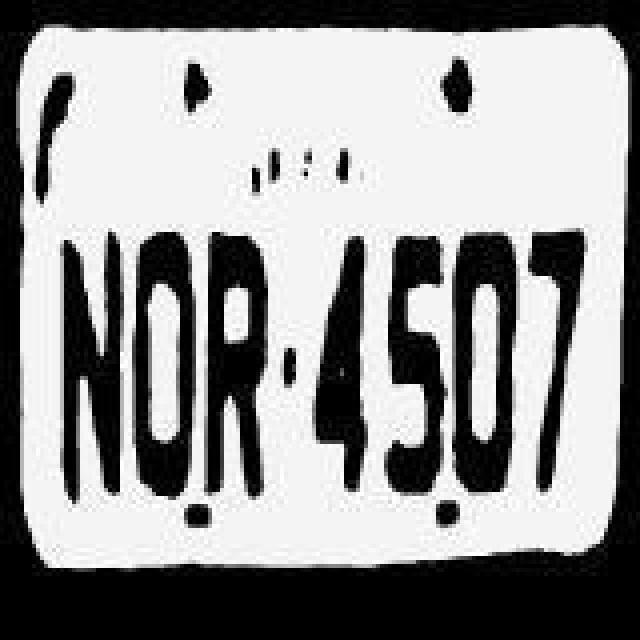4: (310, 226, 378, 494)
5: (382, 224, 450, 504)
7: (524, 220, 596, 492)
N: (46, 224, 122, 504)
O: (450, 222, 526, 506), (128, 230, 200, 498)
R: (200, 228, 280, 508)
